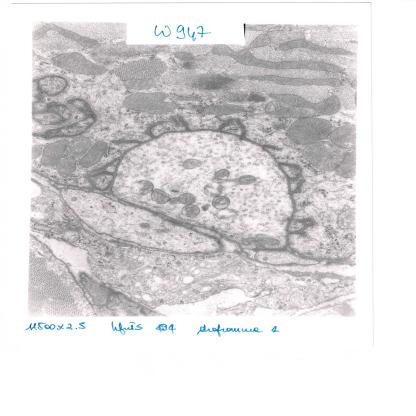mitochondria: (223, 46, 344, 74), (268, 90, 343, 116), (34, 23, 96, 50), (49, 51, 110, 75), (304, 140, 346, 171), (278, 39, 350, 57), (285, 117, 332, 144), (122, 92, 179, 114), (246, 74, 342, 87), (265, 100, 317, 120), (78, 140, 108, 168), (42, 139, 67, 166), (329, 124, 356, 148), (335, 148, 356, 178), (64, 136, 92, 157), (55, 157, 78, 178), (122, 77, 155, 91), (210, 103, 246, 115), (131, 179, 154, 195), (150, 188, 171, 204), (203, 181, 223, 197), (211, 196, 232, 209), (212, 168, 231, 182), (232, 174, 258, 184), (180, 205, 201, 217), (174, 51, 198, 60), (183, 158, 202, 169), (178, 192, 195, 204)
